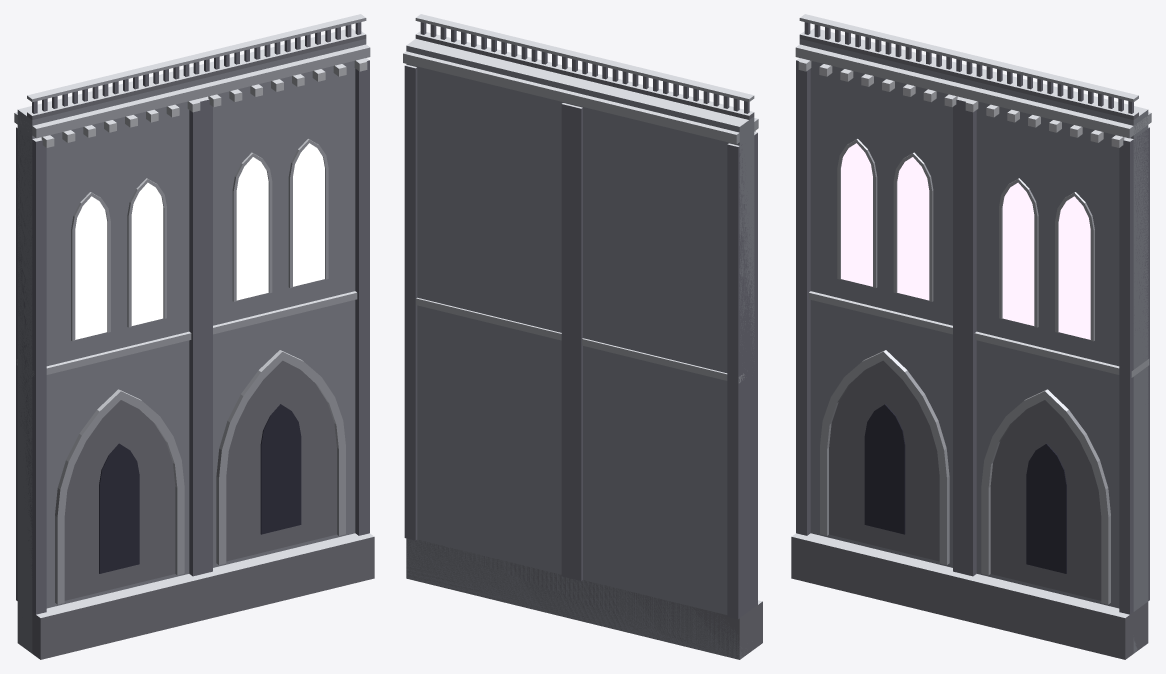
The model's file is AR_Podio_Modulo.fbx.
3 views of the same model, side by side, from view 1: azimuth 30°, elevation 25°; view 2: azimuth 150°, elevation 25°; view 3: azimuth 330°, elevation 25° (orthographic).
Parts seen in each view (by area): view 1: AR_Podio_Modulo; view 2: AR_Podio_Modulo; view 3: AR_Podio_Modulo.
Boxes of the visible parts, bbox=[...] form: AR_Podio_Modulo: bbox=[14, 14, 374, 659]; AR_Podio_Modulo: bbox=[403, 14, 762, 659]; AR_Podio_Modulo: bbox=[791, 14, 1151, 659].
Size of the model in its own units: 18.4 by 29.2 by 2.5.
